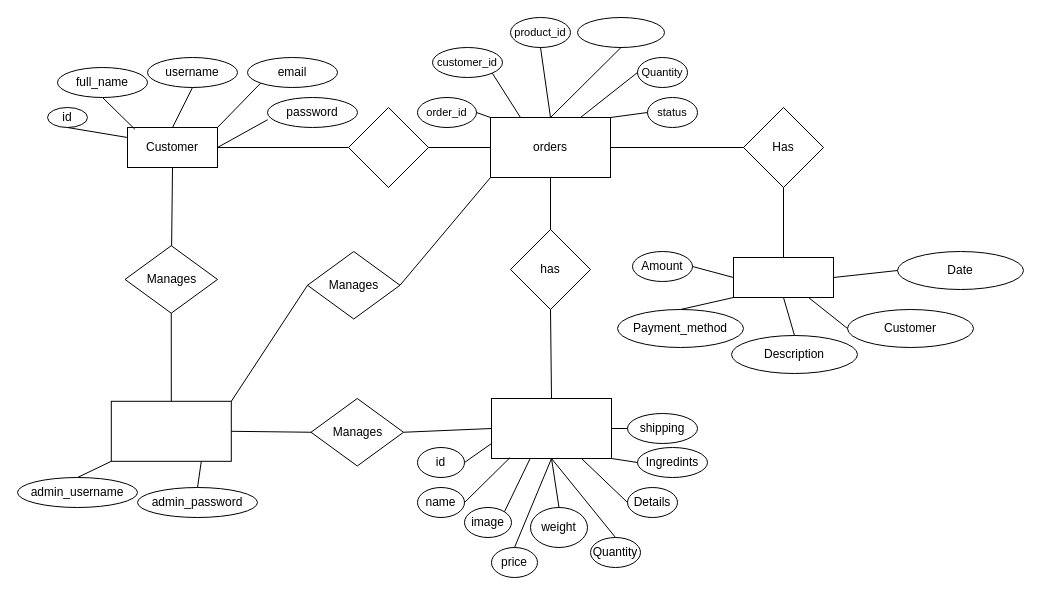
Some shapes in this 1041 by 595 pixel diagram are drawn without their labels. The box of each missing label's shape, as (x1, y1, x2, y2) in pixels:
Admin: (110, 400, 231, 461)
Food: (490, 398, 612, 458)
Payment: (732, 256, 834, 298)
place: (348, 106, 428, 188)
product_name: (576, 16, 664, 48)
